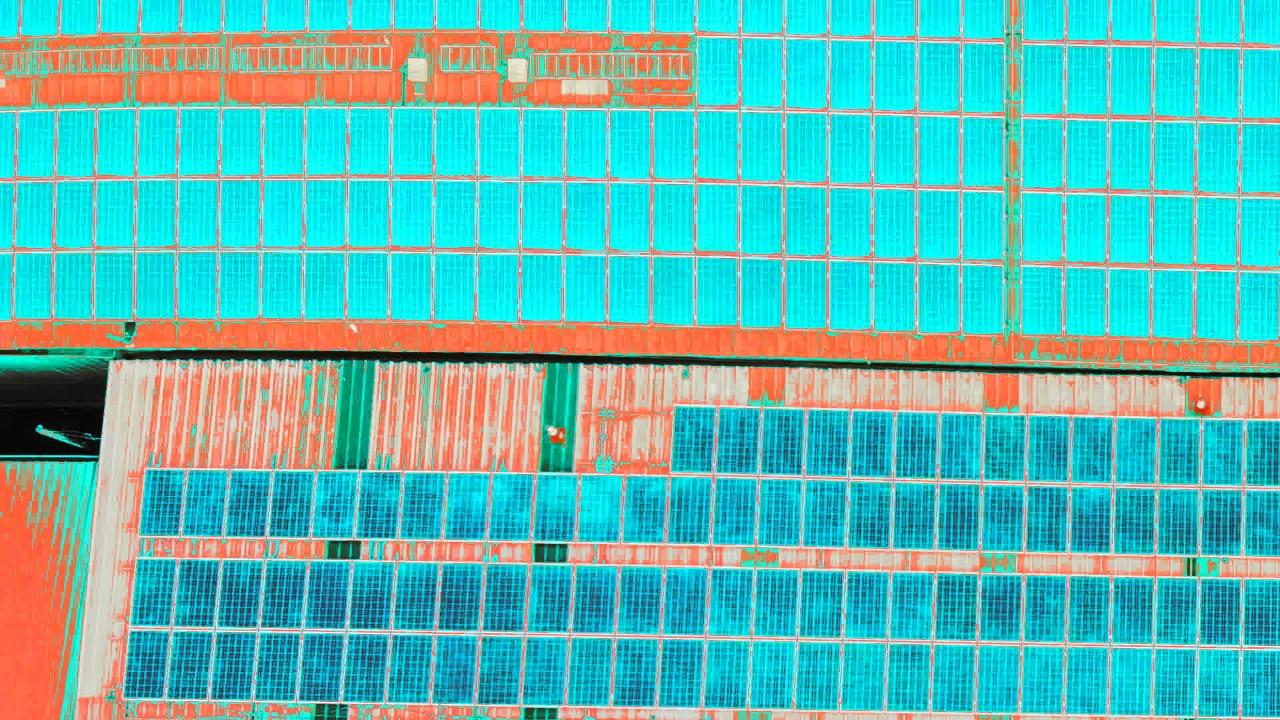dirty: (1, 120, 1002, 331), (1022, 4, 1280, 344), (692, 30, 1014, 111)
semi: (137, 550, 1280, 717), (672, 405, 1280, 554), (143, 466, 672, 547)
